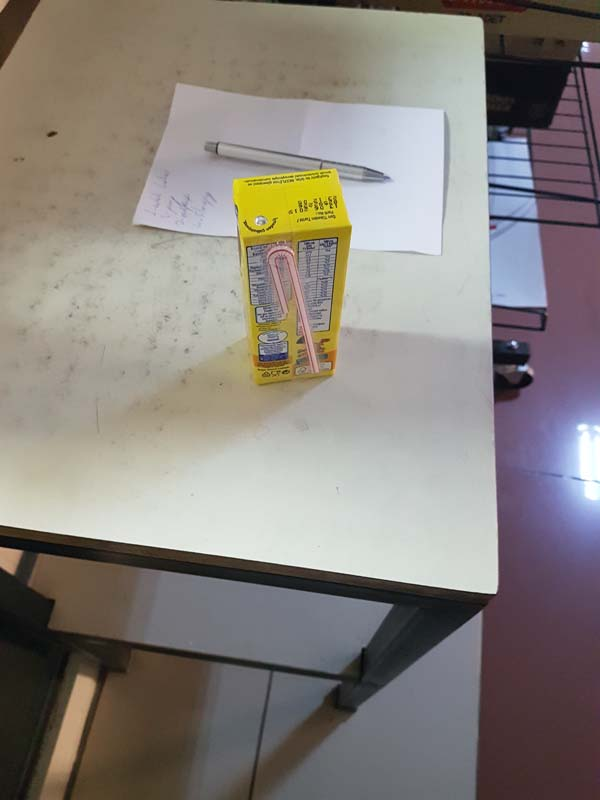nesquick200ml: (233, 171, 341, 386)
